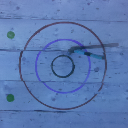Axe Tip: (72, 47, 84, 49)
